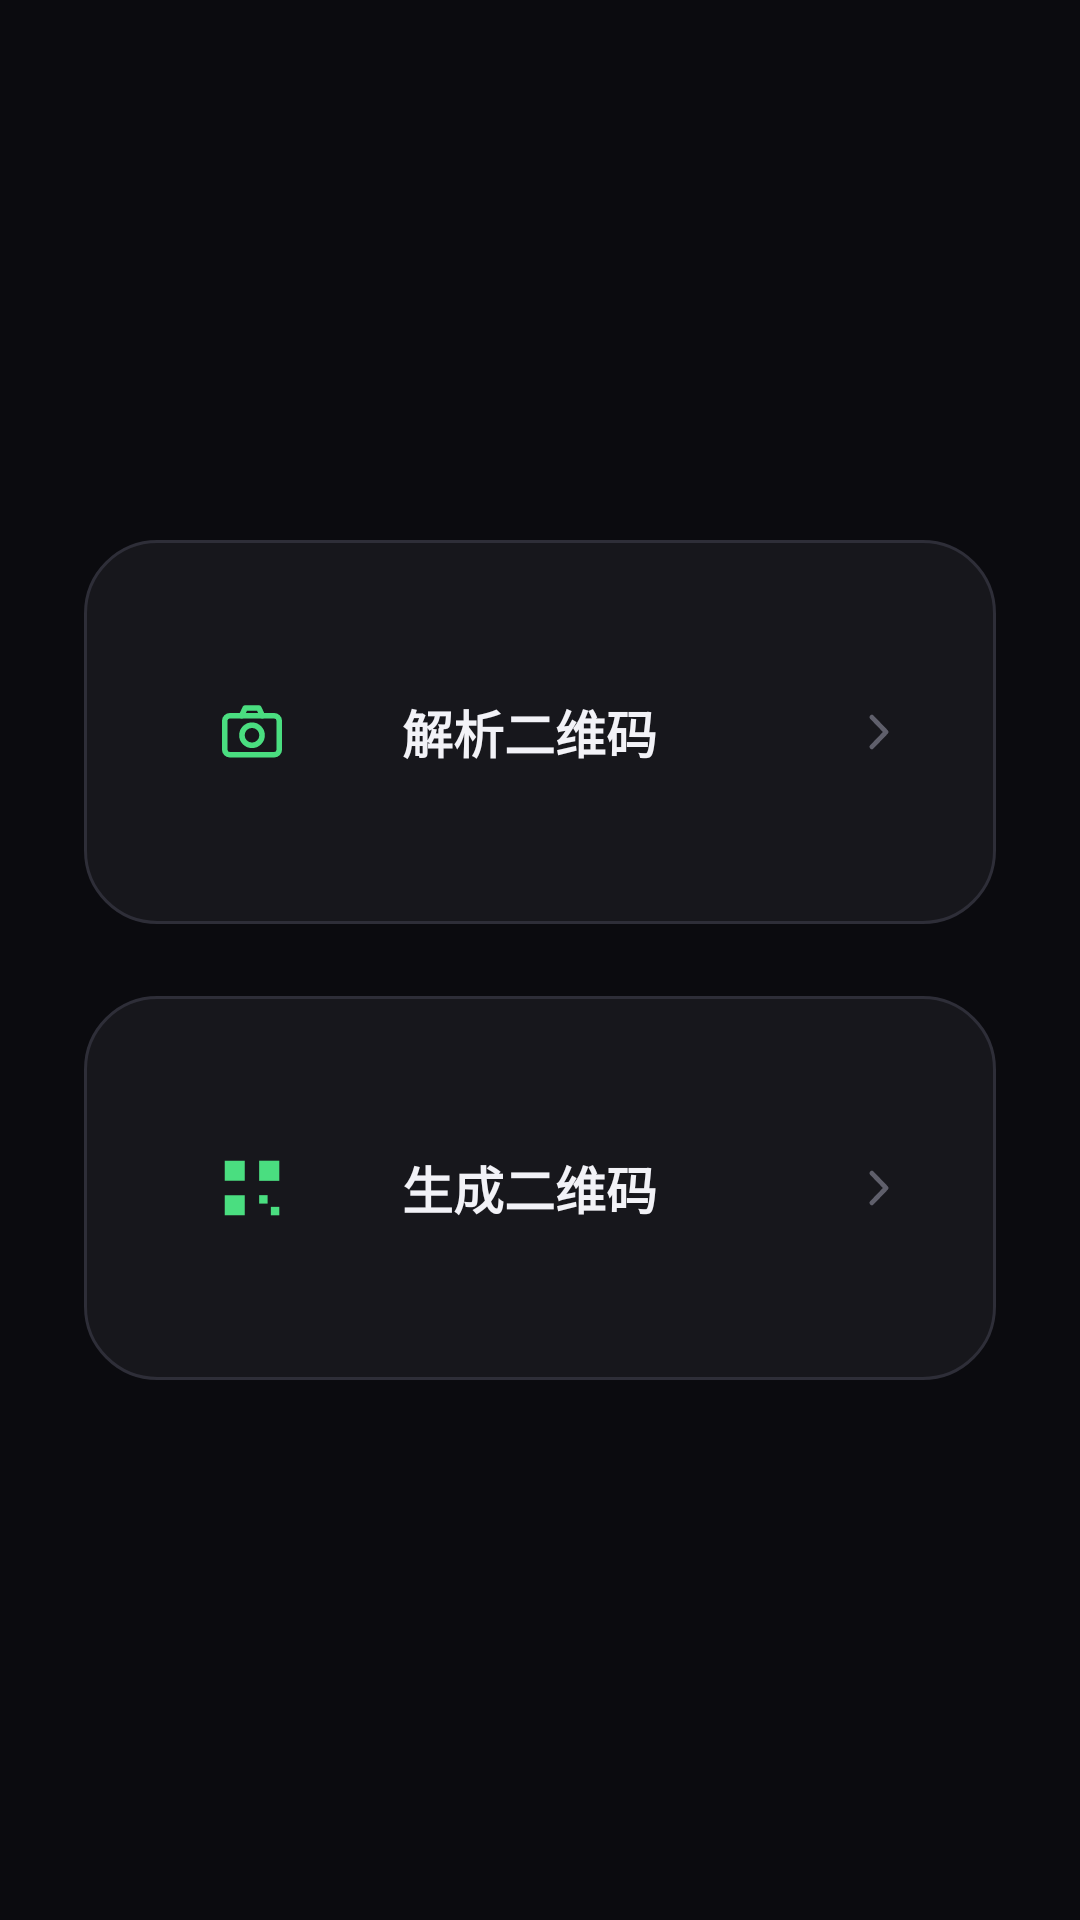

Point at icon controls on the screen. Image size 1080 x 1920, points as (x,y).
camera: (252,731)
chevron: (879,732), (879,1188)
